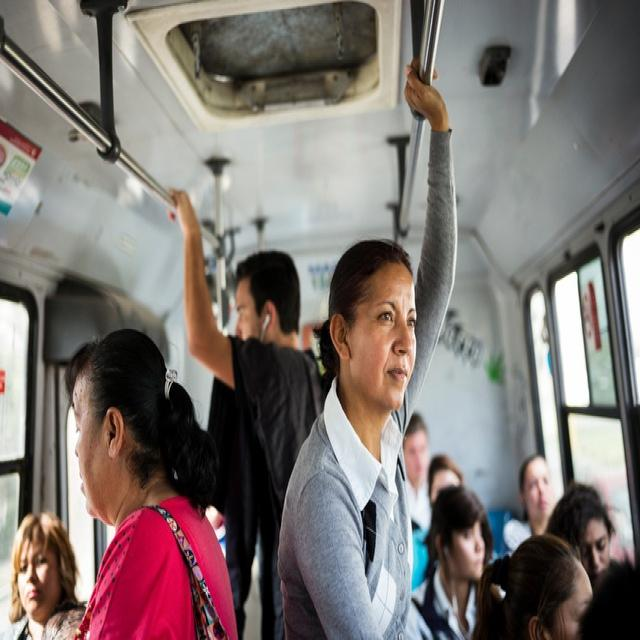body: (272, 51, 464, 639), (162, 185, 323, 638), (61, 327, 240, 640), (477, 482, 639, 638), (404, 481, 488, 640), (7, 508, 91, 638), (402, 408, 435, 594), (500, 451, 556, 560), (427, 454, 464, 509)
